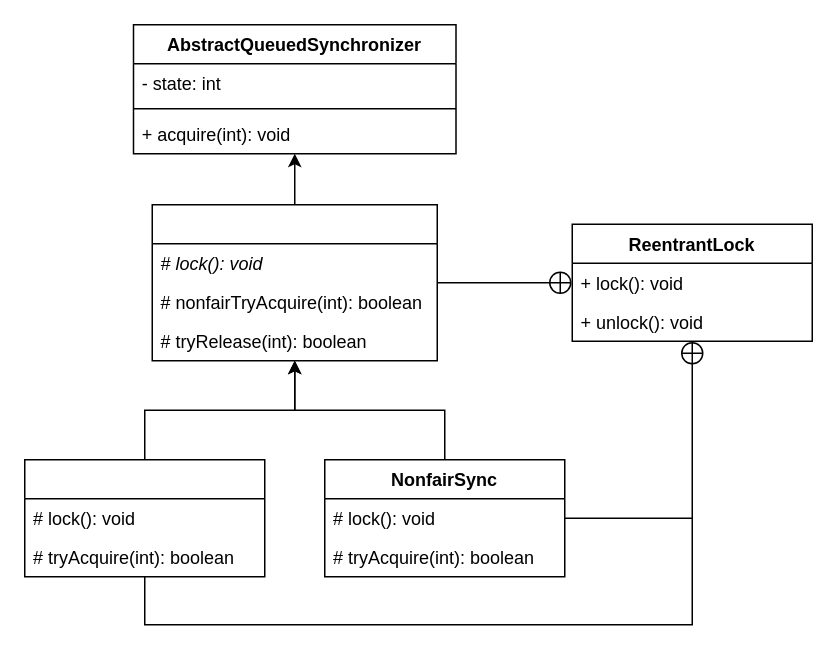
The diagram is 837 pixels wide and 650 high, and some of its shapes have lost their labels. The shapes that lost their labels are listed below. From the top down, each one's box as (x1, y1, x2, y2) in pixels, then its label:
(151, 203, 437, 361): Sync
(23, 458, 265, 577): FairSync
